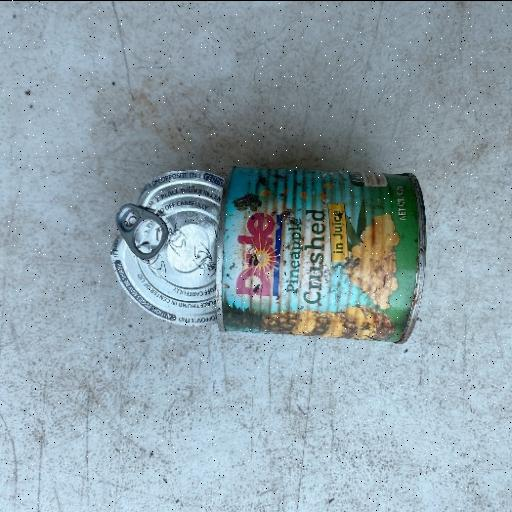Metal: (108, 164, 428, 346)
